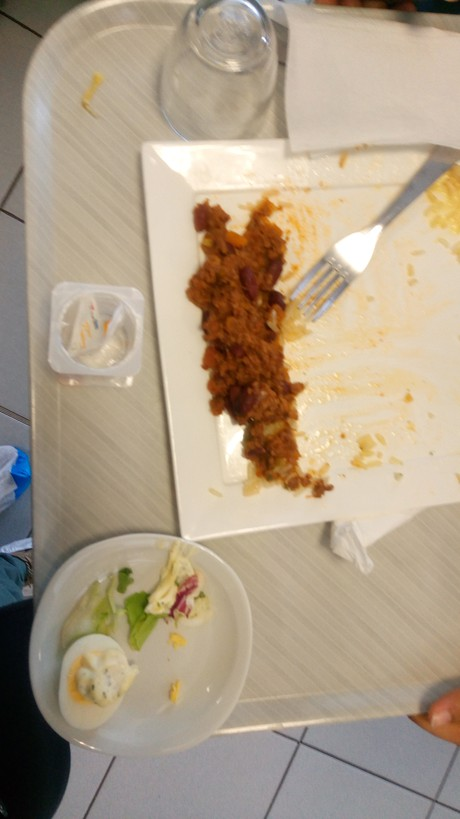cup: (147, 1, 269, 155)
cutlery: (308, 146, 458, 311)
orga: (161, 184, 338, 512), (60, 626, 137, 748), (149, 538, 215, 624)
trash: (273, 2, 460, 141), (39, 276, 145, 395)
